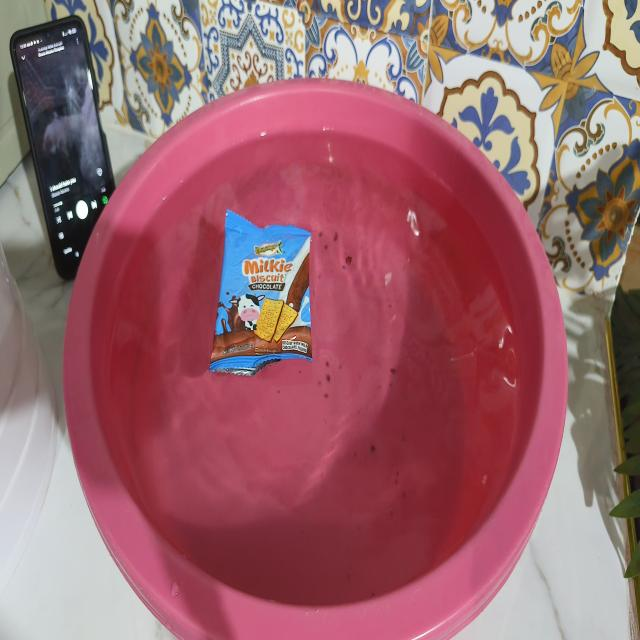Plastic Wrapper: (210, 210, 312, 376)
